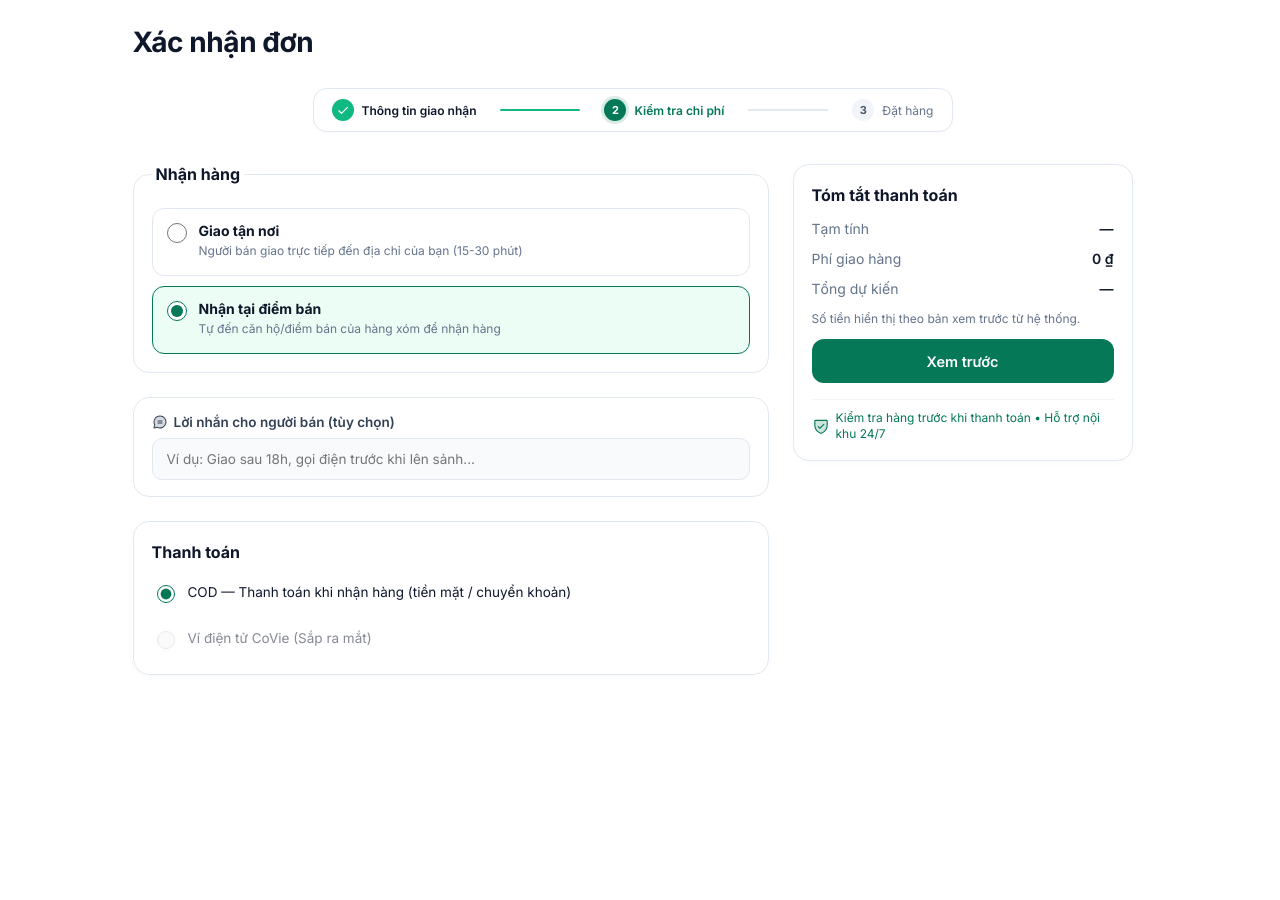
it: explains a missing delivery address and prevents a doomed preview request
The image size is (1280, 900).
Click the radio button with aria-label "SELLER_DELIVERY".
click(176, 233)  # box [166,223,186,243]
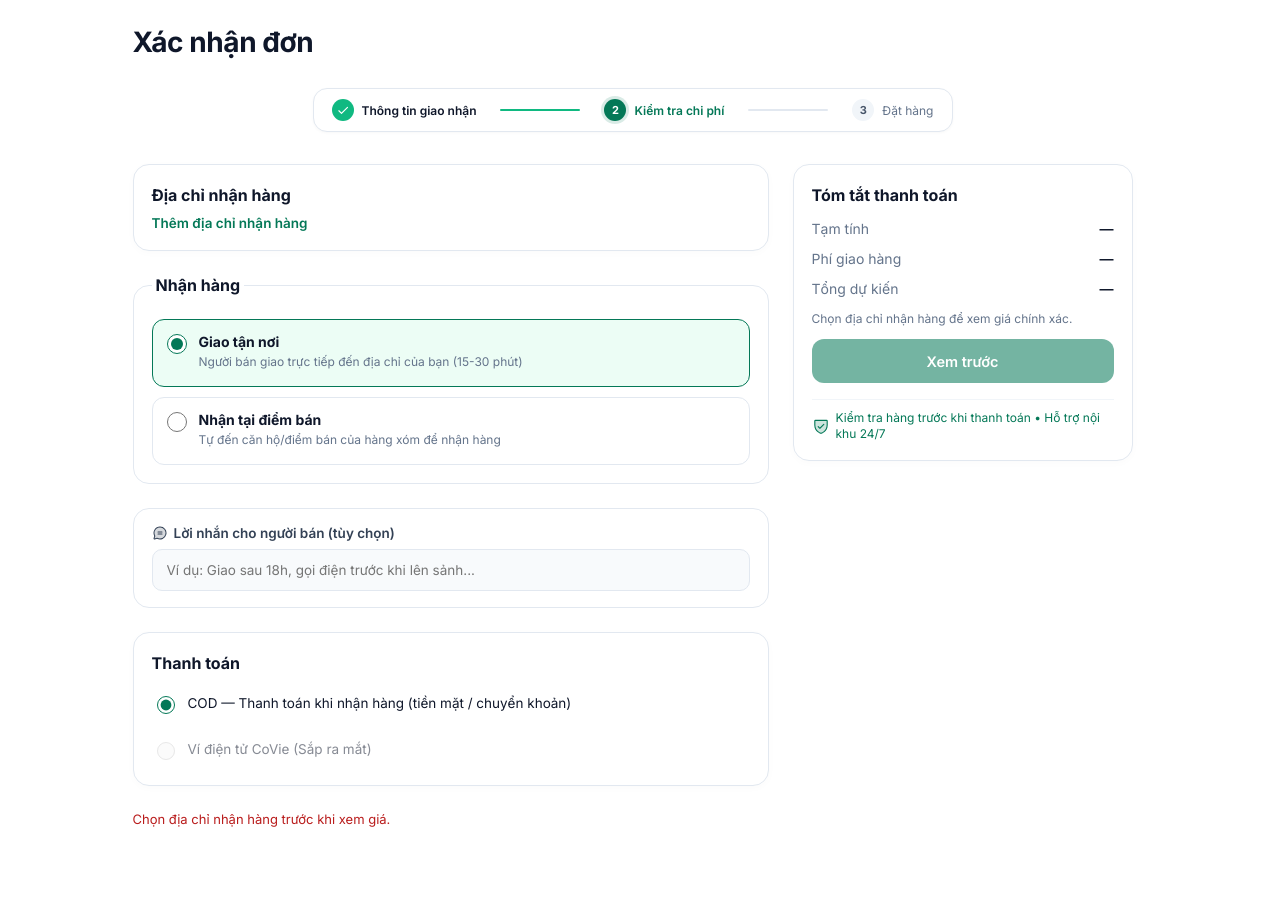
Check: the button "Xem trước" is disabled, box [812,339,1114,383]
Check: the text "Chọn địa chỉ nhận hàng trước khi xem giá." is shown, box [132,811,390,827]
